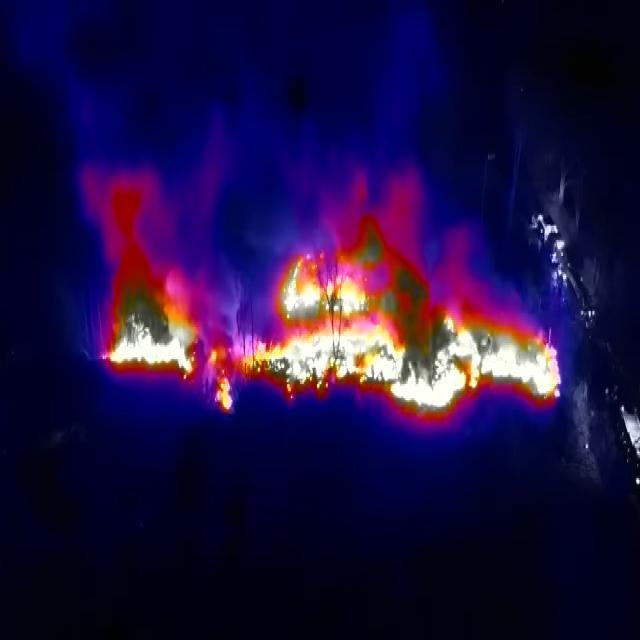fire: (242, 252, 559, 417), (100, 225, 209, 381), (209, 330, 237, 420)
